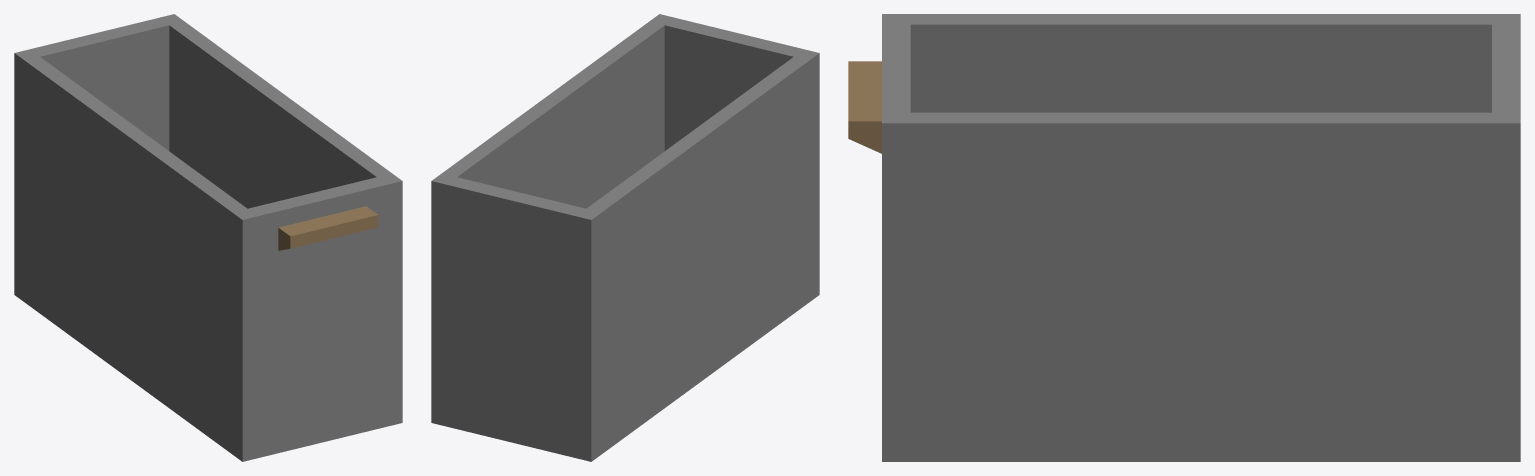
Rendered from FileCabinet_Small_Drawer_B.fbx.
3 views of the same model, side by side, from view 1: azimuth 30°, elevation 25°; view 2: azimuth 150°, elevation 25°; view 3: azimuth 270°, elevation 25° (orthographic). The views are drawn at different scales.
Visible parts, largest first — view 1: FileCabinet_Small_Drawer_B; view 2: FileCabinet_Small_Drawer_B; view 3: FileCabinet_Small_Drawer_B.
Part boxes in pixels (box(x1,y1,x2,y2)): FileCabinet_Small_Drawer_B: box(14, 14, 402, 461); FileCabinet_Small_Drawer_B: box(431, 14, 819, 461); FileCabinet_Small_Drawer_B: box(848, 14, 1520, 461).
Size of the model in its own units: 22.45 by 32.44 by 58.36.
